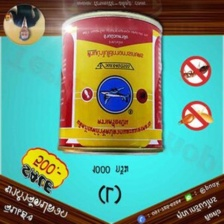insecticide: (54, 9, 165, 157)
